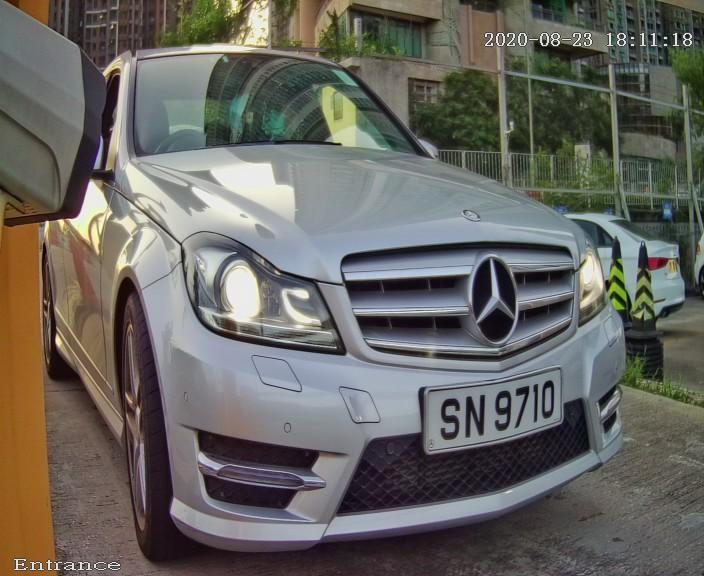Car: (38, 1, 679, 576)
License Plate: (385, 342, 576, 482)
